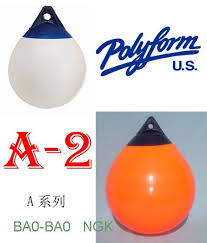buoy: (105, 143, 197, 235)
